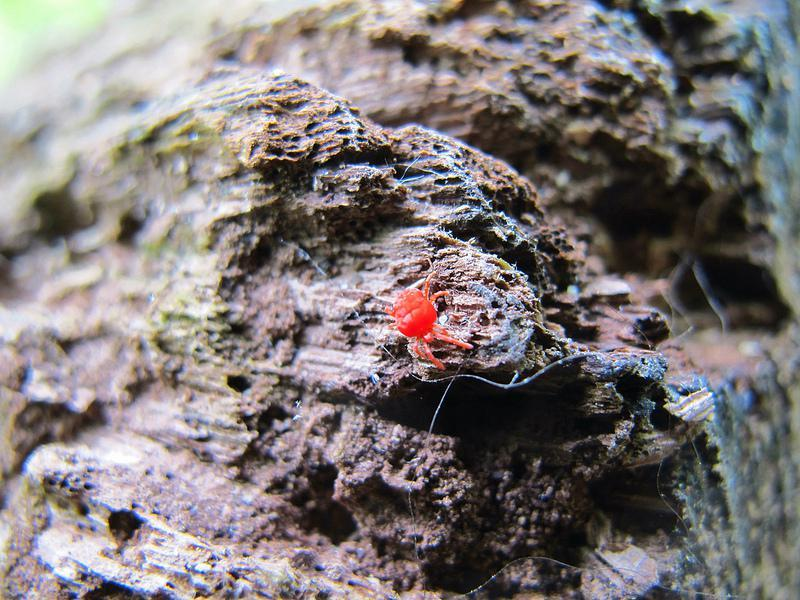tiny_pests: (353, 254, 494, 382)
